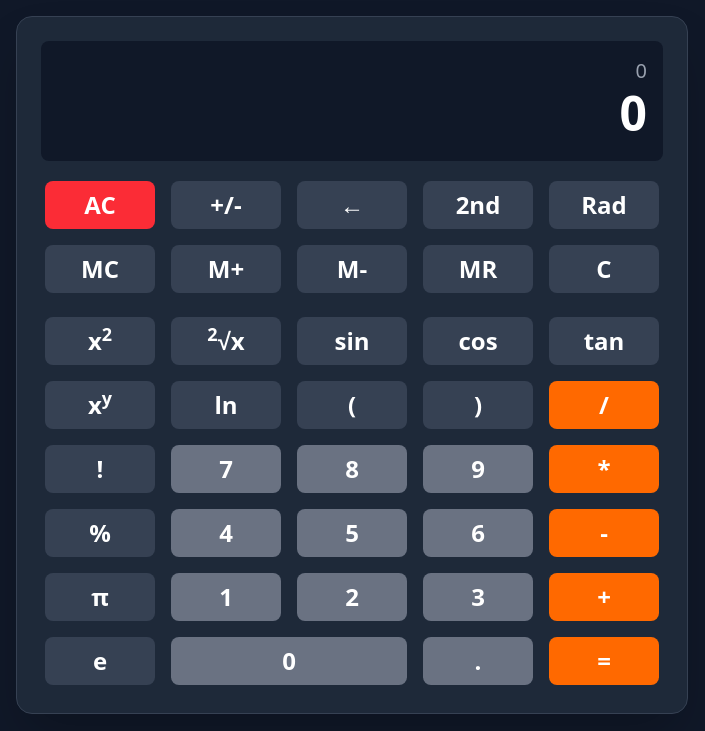
it: Scientific Calculator Tests › should display multi-digit numbers correctly
The image size is (705, 731).
Click the button "1": [226, 597] box [171, 573, 281, 621]
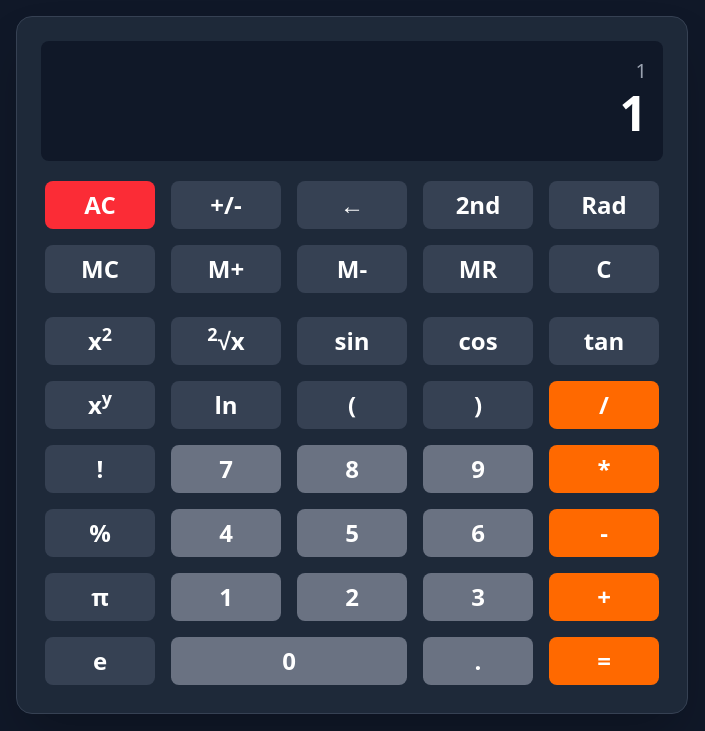
Click the button "5": [352, 533] box [297, 509, 407, 557]
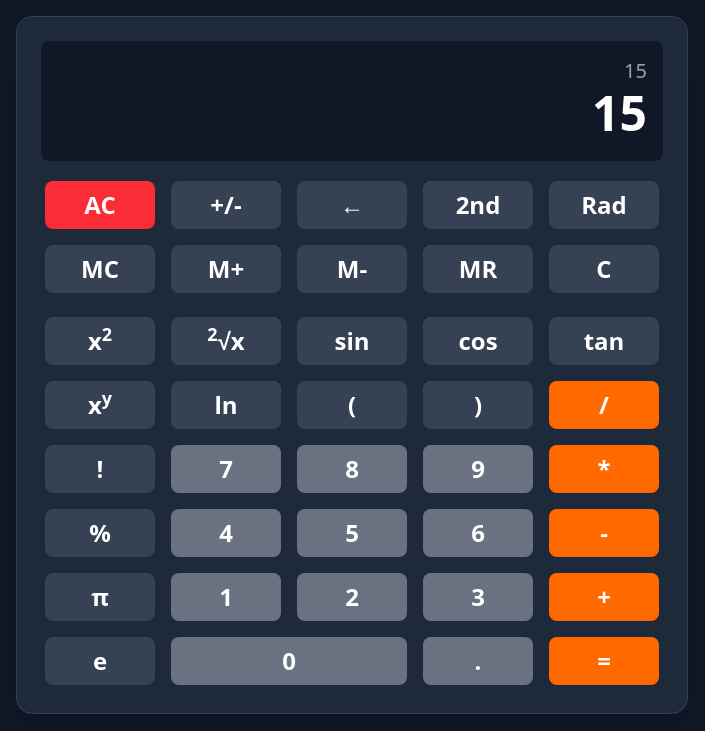
Click the button "9": [478, 469] box [423, 445, 533, 493]
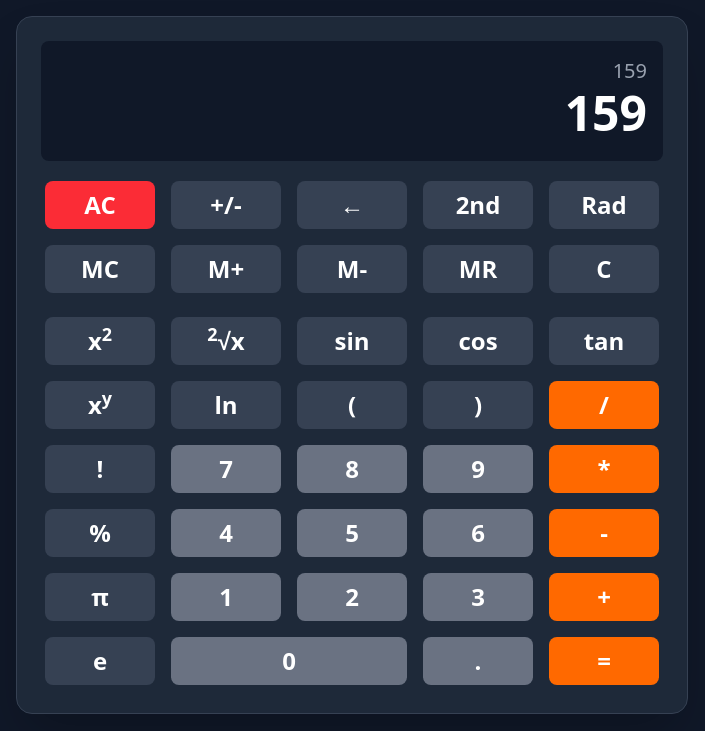
Expected: the 2nd text "159" is shown, [565, 80, 647, 145]
